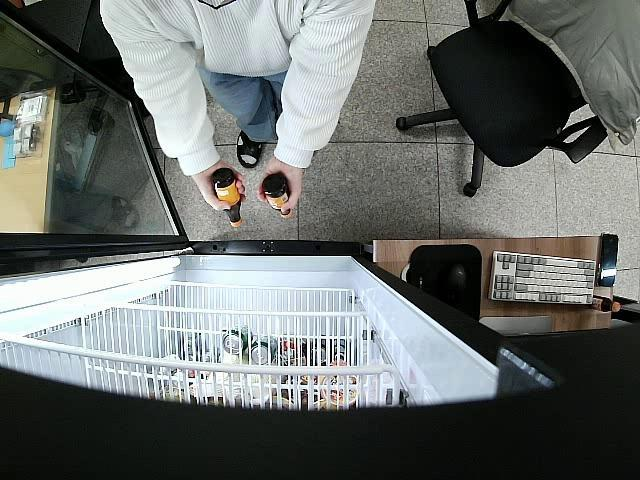17_vita500: (212, 168, 244, 231), (262, 172, 294, 219)
